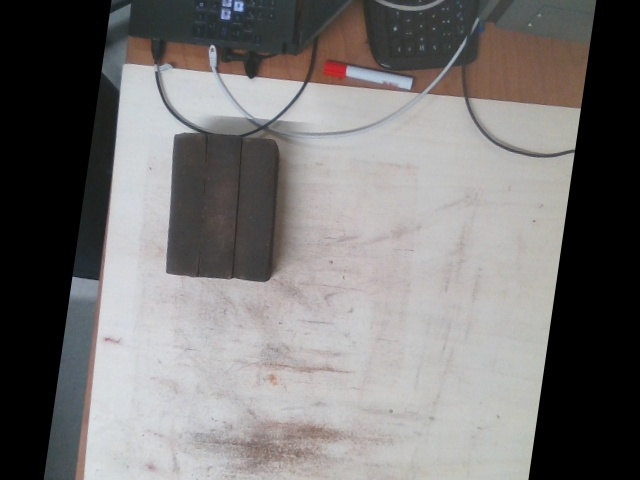brick-side: (234, 141, 275, 278), (199, 138, 239, 276), (166, 136, 206, 273)
